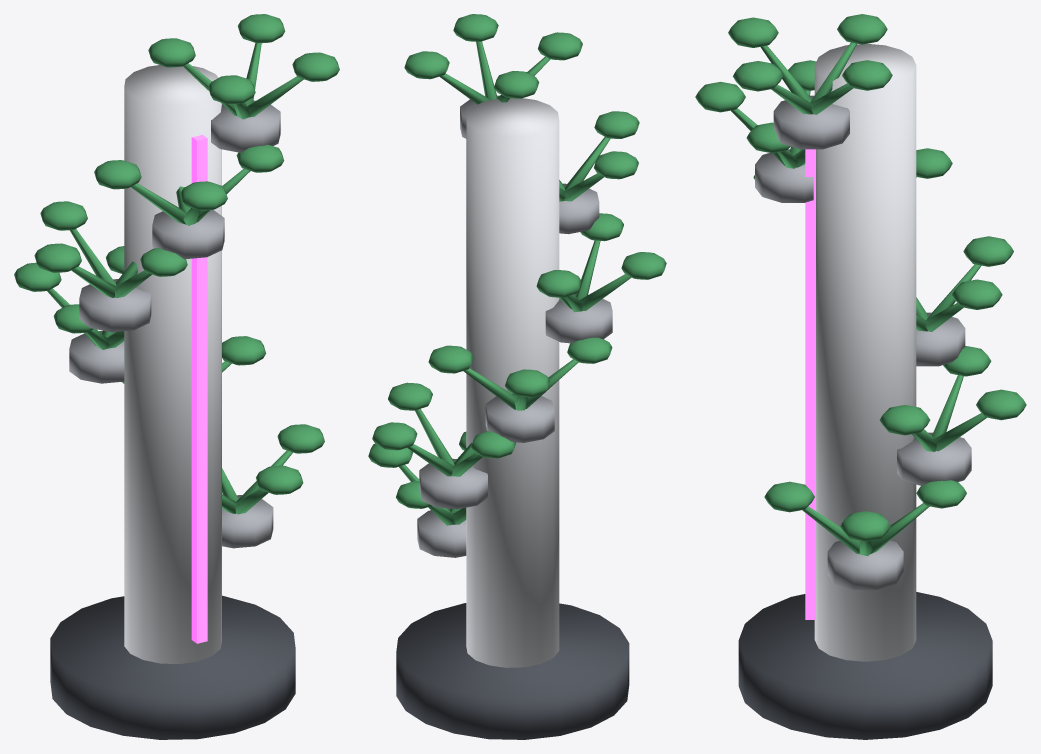
The model's file is plant_hydro_tower.glb.
The picture shows the model from 3 angles, left to right: view 1: azimuth 30°, elevation 25°; view 2: azimuth 150°, elevation 25°; view 3: azimuth 270°, elevation 25°; orthographic projection. The views are drawn at different scales.
Visible parts, largest first — view 1: GD_plant_hydro_tower__m1, GD_plant_hydro_tower__m0, GD_plant_hydro_tower__m2, GD_plant_hydro_tower__m3, GD_plant_hydro_tower__m4; view 2: GD_plant_hydro_tower__m1, GD_plant_hydro_tower__m2, GD_plant_hydro_tower__m0, GD_plant_hydro_tower__m3; view 3: GD_plant_hydro_tower__m1, GD_plant_hydro_tower__m0, GD_plant_hydro_tower__m2, GD_plant_hydro_tower__m3, GD_plant_hydro_tower__m4.
Part boxes in pixels (bbox=[...]): GD_plant_hydro_tower__m1: bbox=[124, 65, 221, 663]; GD_plant_hydro_tower__m0: bbox=[50, 595, 295, 739]; GD_plant_hydro_tower__m2: bbox=[14, 14, 339, 514]; GD_plant_hydro_tower__m3: bbox=[69, 100, 280, 548]; GD_plant_hydro_tower__m4: bbox=[191, 134, 207, 643]; GD_plant_hydro_tower__m1: bbox=[466, 98, 559, 667]; GD_plant_hydro_tower__m2: bbox=[368, 14, 666, 525]; GD_plant_hydro_tower__m0: bbox=[396, 603, 629, 739]; GD_plant_hydro_tower__m3: bbox=[417, 95, 612, 557]; GD_plant_hydro_tower__m1: bbox=[814, 43, 916, 661]; GD_plant_hydro_tower__m0: bbox=[738, 592, 992, 739]; GD_plant_hydro_tower__m2: bbox=[695, 14, 1026, 556]; GD_plant_hydro_tower__m3: bbox=[755, 95, 971, 589]; GD_plant_hydro_tower__m4: bbox=[805, 149, 815, 619].
Bounding box in the file's own units: 0.557 × 1.16 × 0.5223.
